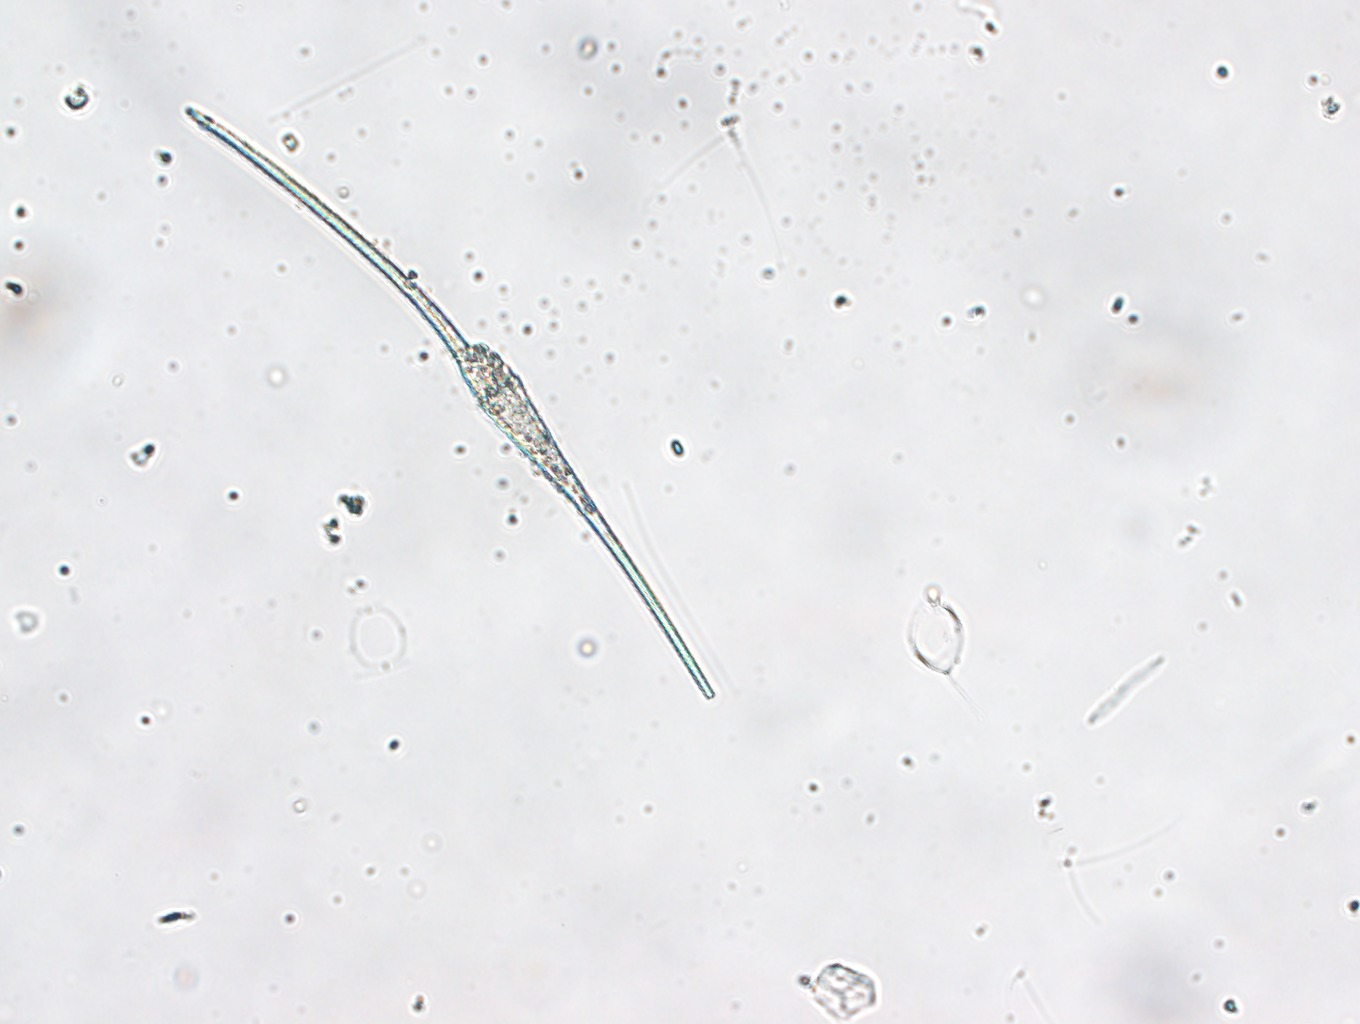ceratium fusus: (183, 106, 714, 699)
